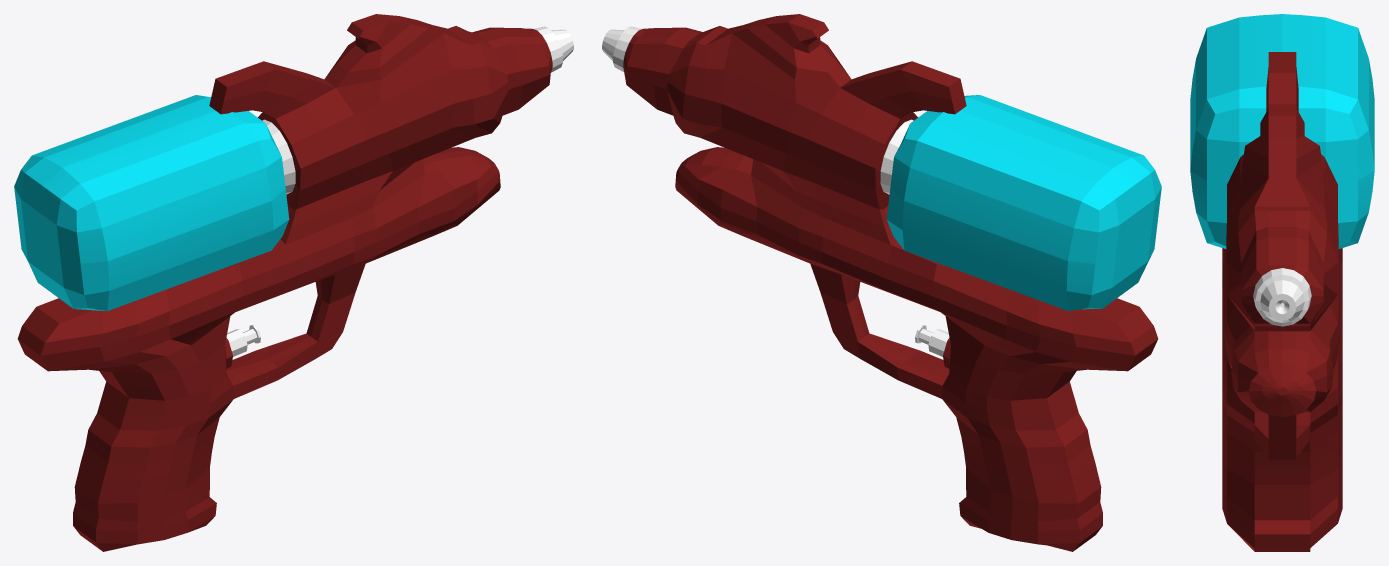
Rendered from pistol3.fbx.
The picture shows the model from 3 angles, left to right: view 1: azimuth 30°, elevation 25°; view 2: azimuth 150°, elevation 25°; view 3: azimuth 270°, elevation 25°; orthographic projection. The views are drawn at different scales.
Parts seen in each view (by area): view 1: pistol5, magasine2; view 2: pistol5, magasine2; view 3: pistol5, magasine2.
Part boxes in pixels (x1,y1,x2,y2): pistol5: (17,14,573,551); magasine2: (14,95,289,311); pistol5: (602,14,1158,551); magasine2: (886,95,1161,311); pistol5: (1222,52,1342,551); magasine2: (1190,14,1374,248).
Size of the model in its own units: 16.95 by 13.63 by 4.16.
